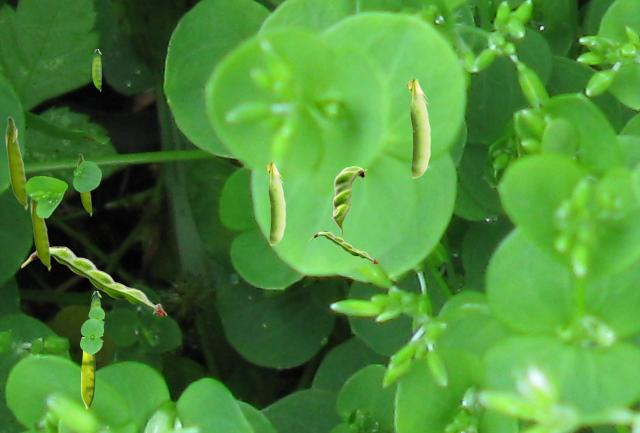pea: (21, 246, 166, 314), (331, 166, 366, 233), (406, 76, 429, 177), (309, 231, 377, 262), (5, 116, 27, 209), (265, 160, 284, 244), (30, 198, 50, 270), (81, 337, 94, 408), (77, 153, 91, 215), (92, 49, 100, 90), (90, 291, 100, 308)
